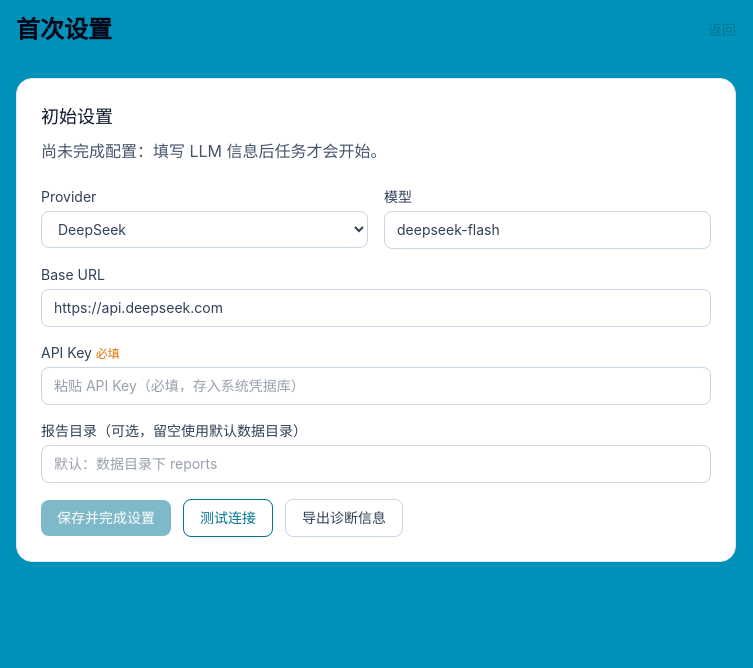
Scenario: App › refuses to complete setup on a fresh install until the API key is typed
Check: the text "尚未完成配置：填写 LLM 信息后任务才会开始。" is shown, box [41, 141, 387, 161]
Check: the button "保存并完成设置" is disabled, box [41, 500, 171, 536]
Type "sk-test" into the password field labelled "API Key 必填" at (376, 386), box [41, 367, 711, 405]
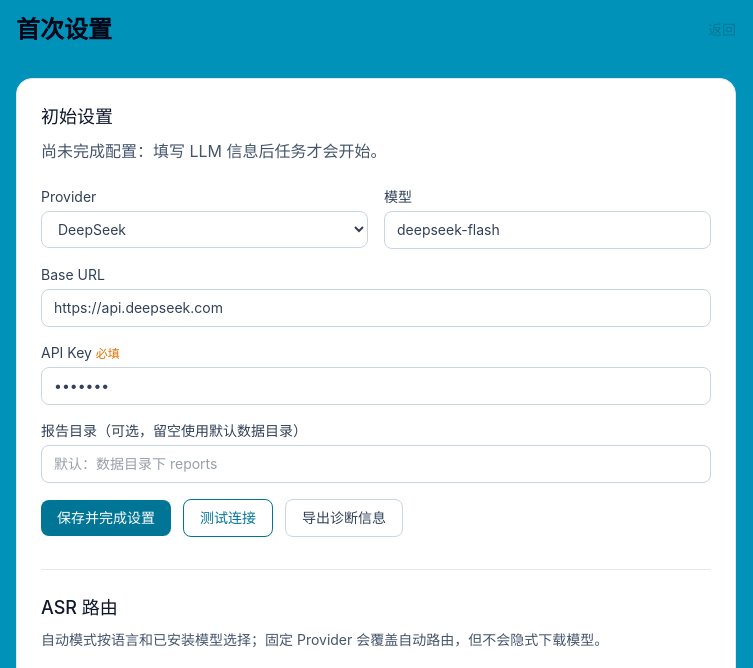
Check: the button "保存并完成设置" is enabled, box [41, 500, 171, 536]
# clearing any other required field disables again
Clear the field with placeholder "deepseek-flash" at (548, 230), box [384, 211, 711, 249]
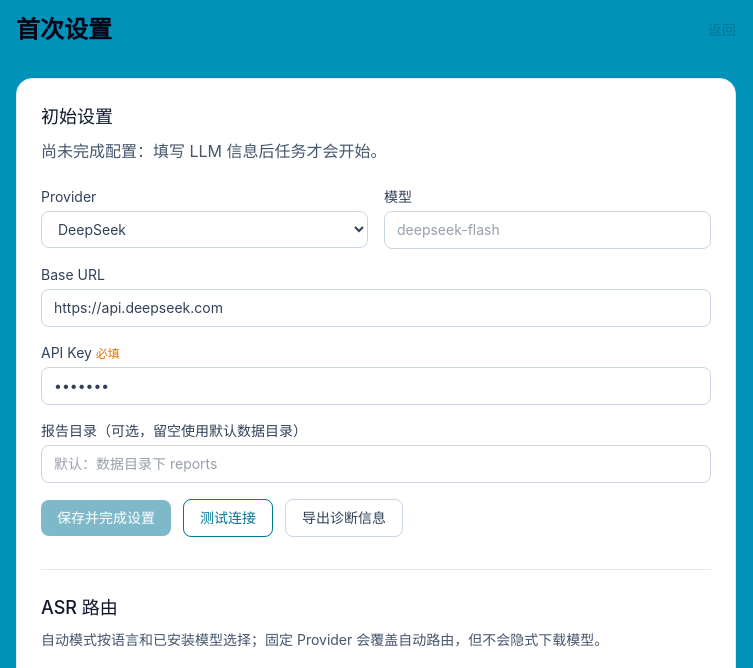
Check: the button "保存并完成设置" is disabled, box [41, 500, 171, 536]
